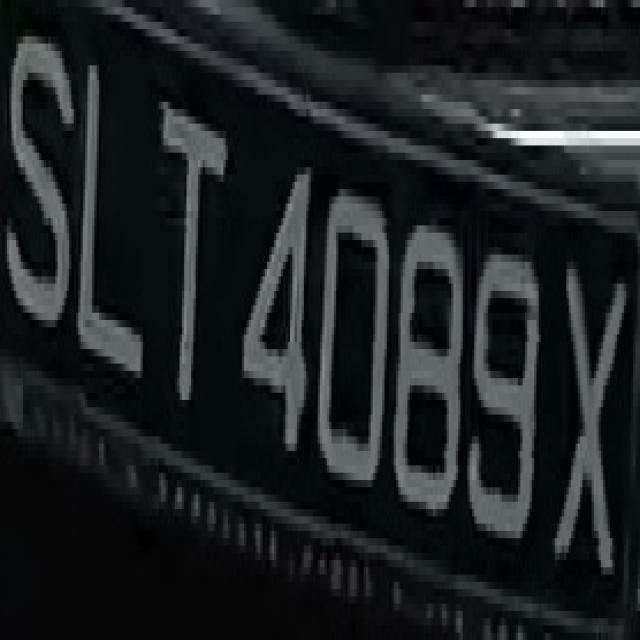0: (313, 146, 394, 516)
4: (232, 109, 316, 473)
8: (387, 182, 472, 531)
9: (472, 233, 546, 545)
L: (78, 36, 148, 408)
S: (5, 22, 76, 371)
T: (145, 65, 237, 422)
X: (557, 226, 624, 604)
